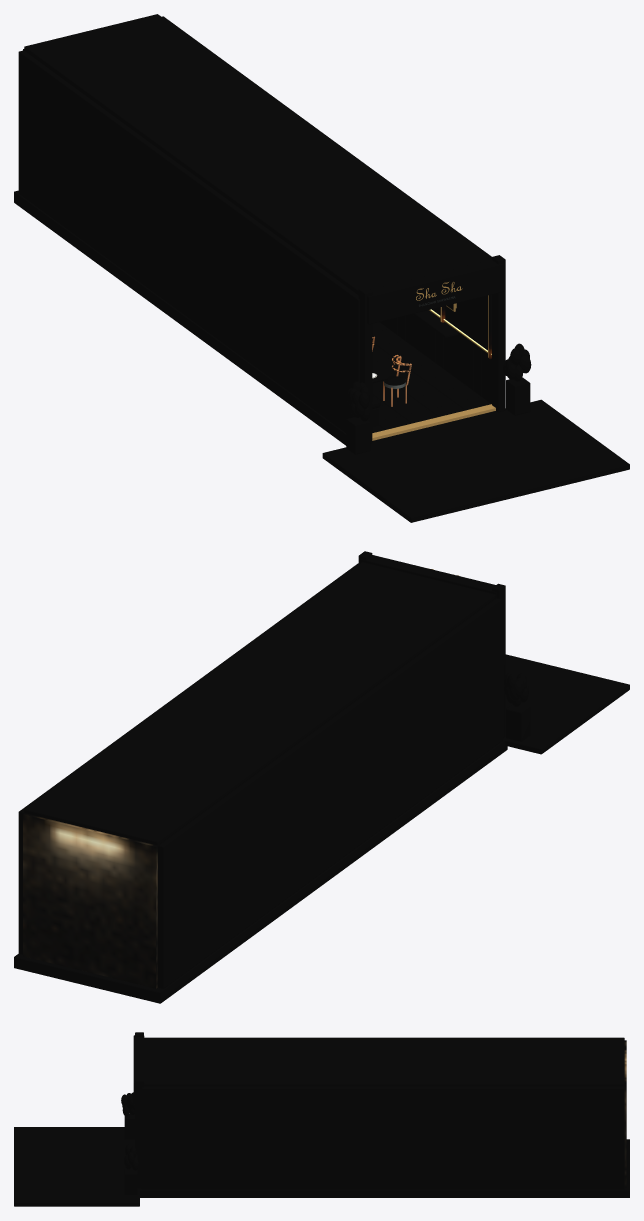
The model's file is heritage-a.glb.
The picture shows the model from 3 angles, top to bottom: view 1: azimuth 30°, elevation 25°; view 2: azimuth 150°, elevation 25°; view 3: azimuth 270°, elevation 25°; orthographic projection. The views are drawn at different scales.
Visible parts, largest first — view 1: Baked architectural interior, Entrance threshold; view 2: Baked architectural interior; view 3: Baked architectural interior.
Boxes of the visible parts, left/top/right/bottom form: Baked architectural interior: left=14, top=14, right=629, bottom=522; Entrance threshold: left=372, top=404, right=495, bottom=440; Baked architectural interior: left=14, top=551, right=629, bottom=1003; Baked architectural interior: left=14, top=1032, right=629, bottom=1206.
Bounding box in the file's own units: 5 × 3.55 × 17.11.
Materials: 7 (1 with a texture image).
